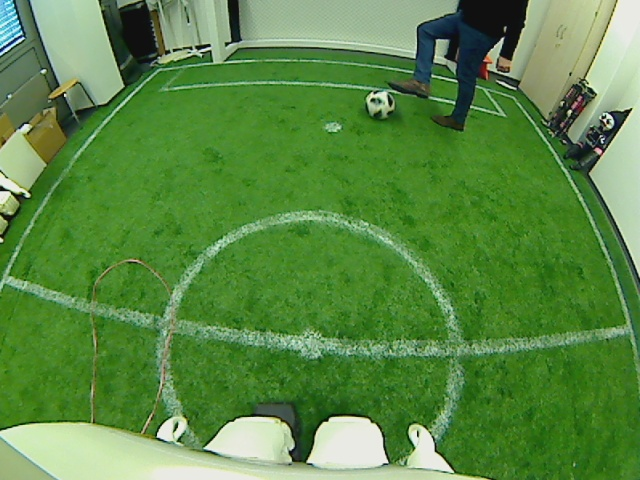ball: (364, 89, 397, 119)
